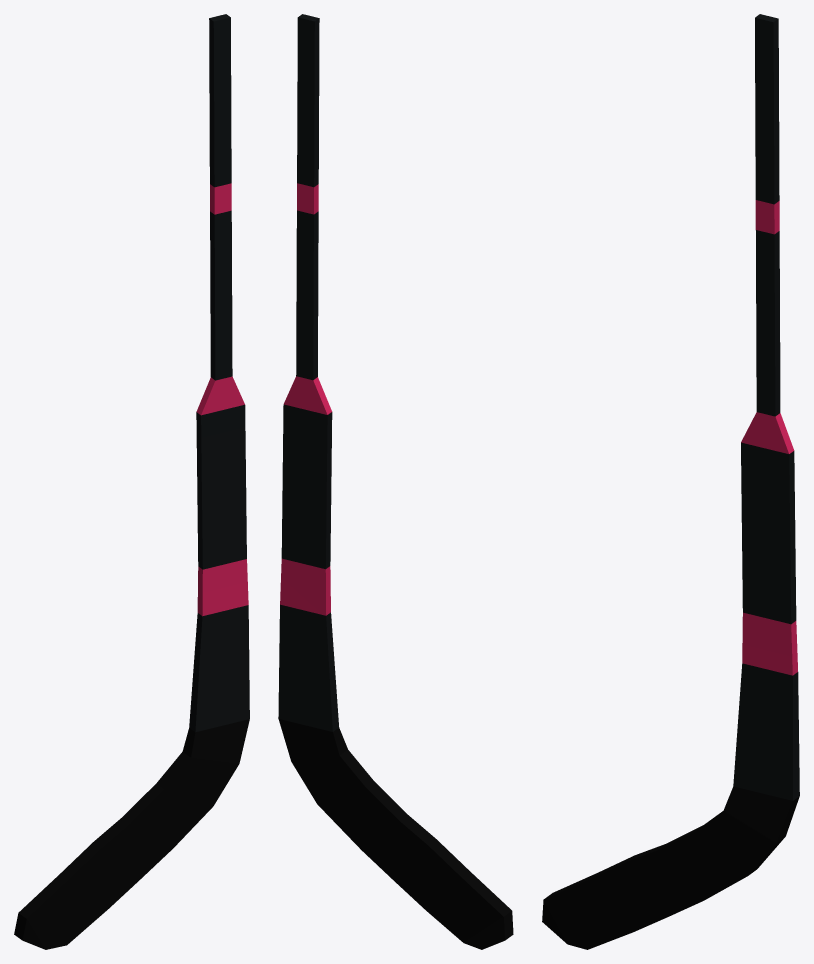
Rendered from Goalkeeper_1_Stick.fbx.
The picture shows the model from 3 angles, left to right: view 1: azimuth 30°, elevation 25°; view 2: azimuth 150°, elevation 25°; view 3: azimuth 330°, elevation 25°; orthographic projection. The views are drawn at different scales.
Visible parts, largest first — view 1: Goalkeeper_1_Stick; view 2: Goalkeeper_1_Stick; view 3: Goalkeeper_1_Stick.
Boxes of the visible parts, <box> form: Goalkeeper_1_Stick: <box>14,14,249,949</box>; Goalkeeper_1_Stick: <box>278,14,513,949</box>; Goalkeeper_1_Stick: <box>542,14,799,949</box>.
Size of the model in its own units: 40.07 by 149 by 3.03.
